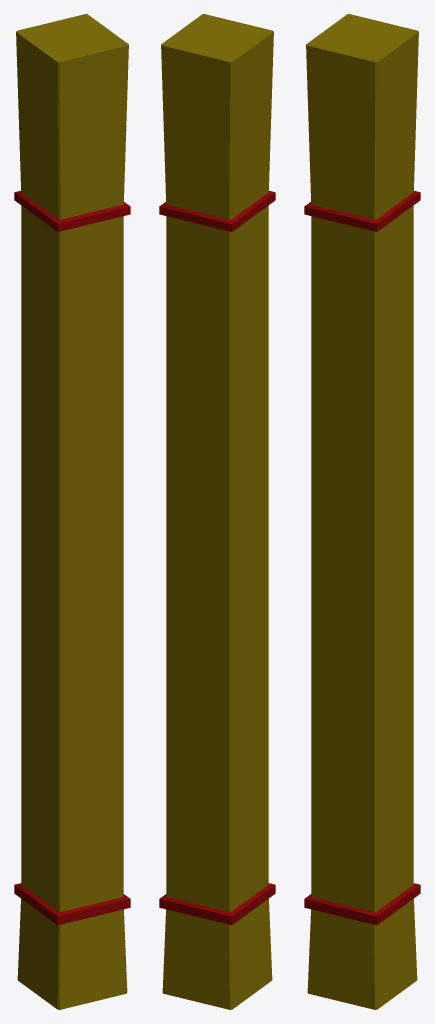
Rendered from WoodenPillar.fbx.
3 views of the same model, side by side, from view 1: azimuth 30°, elevation 25°; view 2: azimuth 150°, elevation 25°; view 3: azimuth 330°, elevation 25° (orthographic).
Parts seen in each view (by area): view 1: Box015; view 2: Box015; view 3: Box015.
Part boxes in pixels (bbox=[...]): Box015: bbox=[14, 14, 130, 1009]; Box015: bbox=[159, 14, 275, 1009]; Box015: bbox=[304, 14, 420, 1009].
Size of the model in its own units: 32.53 by 406 by 33.74.
